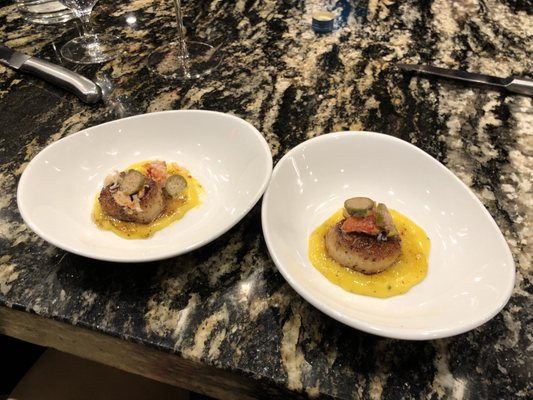burger: (394, 58, 533, 98)
salad: (0, 43, 103, 106)
sandwich: (0, 43, 104, 106)
sushi: (261, 131, 516, 346), (11, 110, 274, 267)
